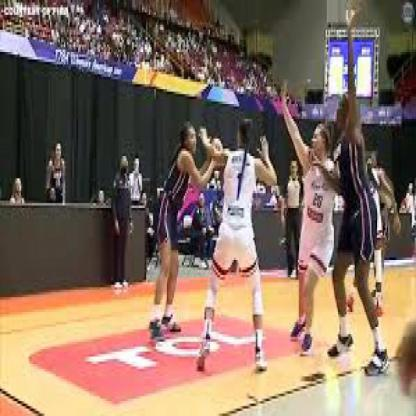basketball: (206, 139, 222, 168)
